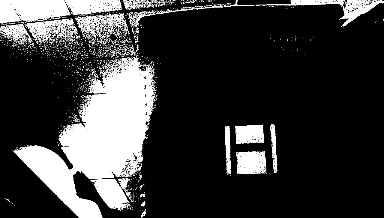H: (223, 123, 277, 175)
